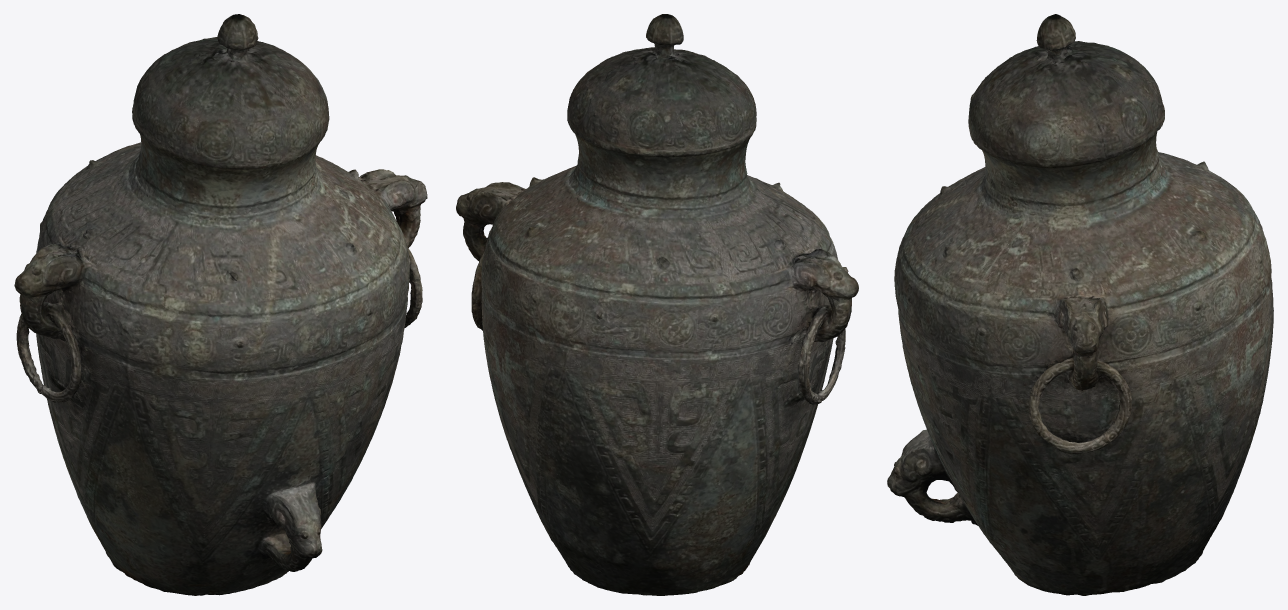
The model's file is lei.glb.
3 renders of one model, left to right at view 1: azimuth 30°, elevation 25°; view 2: azimuth 150°, elevation 25°; view 3: azimuth 270°, elevation 25°, orthographic. The views are drawn at different scales.
Visible parts, largest first — view 1: 221bd136_9ced_455e_ac22_8db64d664d46; view 2: 221bd136_9ced_455e_ac22_8db64d664d46; view 3: 221bd136_9ced_455e_ac22_8db64d664d46.
Boxes of the visible parts, <box> form: 221bd136_9ced_455e_ac22_8db64d664d46: <box>14,14,427,595</box>; 221bd136_9ced_455e_ac22_8db64d664d46: <box>456,14,858,595</box>; 221bd136_9ced_455e_ac22_8db64d664d46: <box>887,14,1273,595</box>.
Bounding box in the file's own units: 56.33 × 72.9 × 46.03.
1 material, 1 textured.
